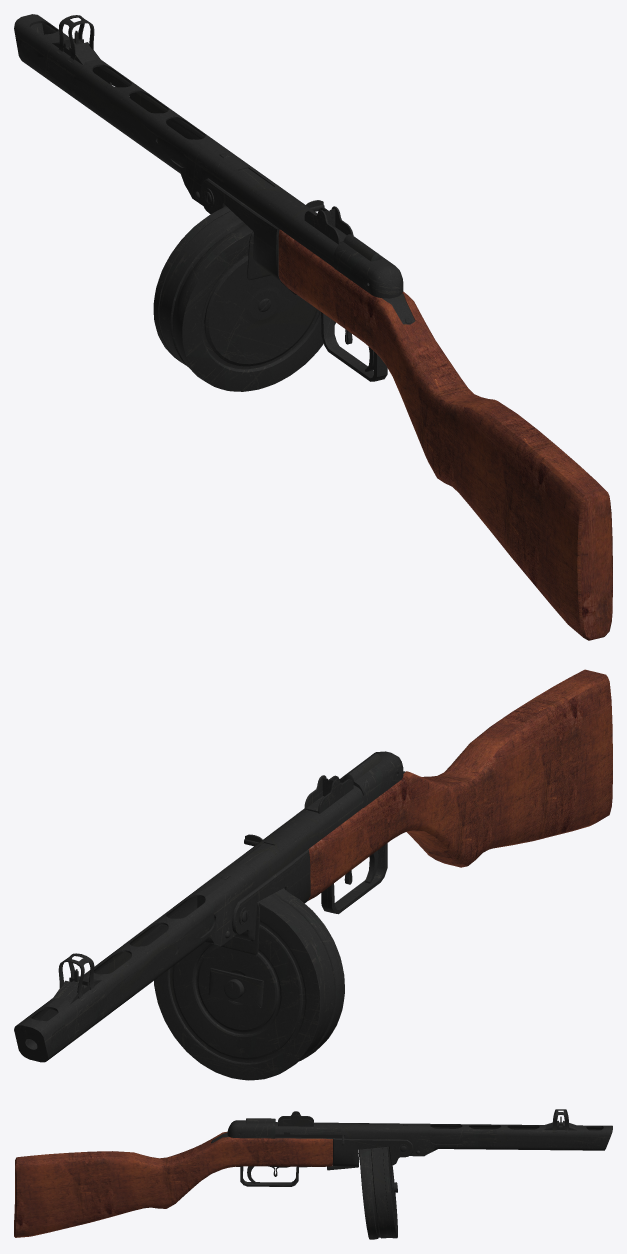
Rendered from PPSH-41.obj.
3 renders of one model, top to bottom at view 1: azimuth 30°, elevation 25°; view 2: azimuth 150°, elevation 25°; view 3: azimuth 270°, elevation 25°, orthographic. The views are drawn at different scales.
Parts seen in each view (by area): view 1: PPSh41.007_PPSh-41_01.007; view 2: PPSh41.007_PPSh-41_01.007; view 3: PPSh41.007_PPSh-41_01.007.
Boxes of the visible parts, x1,y1,x2,y2 form: PPSh41.007_PPSh-41_01.007: [14, 14, 612, 640]; PPSh41.007_PPSh-41_01.007: [14, 669, 612, 1080]; PPSh41.007_PPSh-41_01.007: [14, 1109, 612, 1239].
Bounding box in the file's own units: 4.93 × 6.74 × 29.19.
